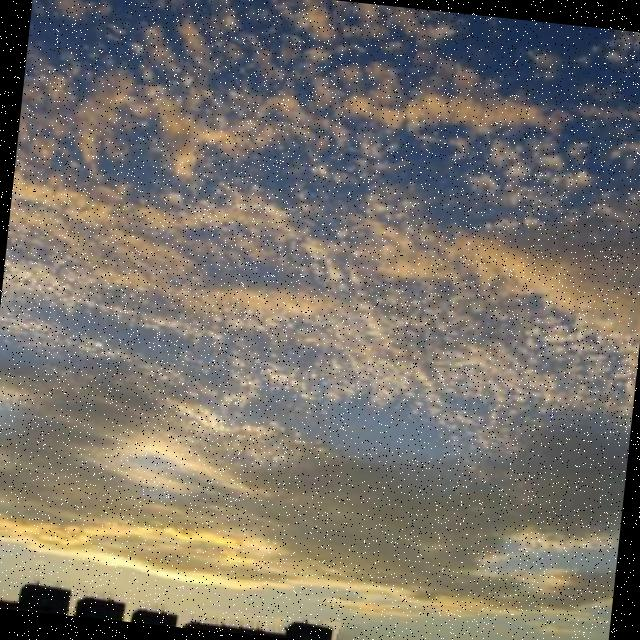Cc: (1, 1, 640, 370)
